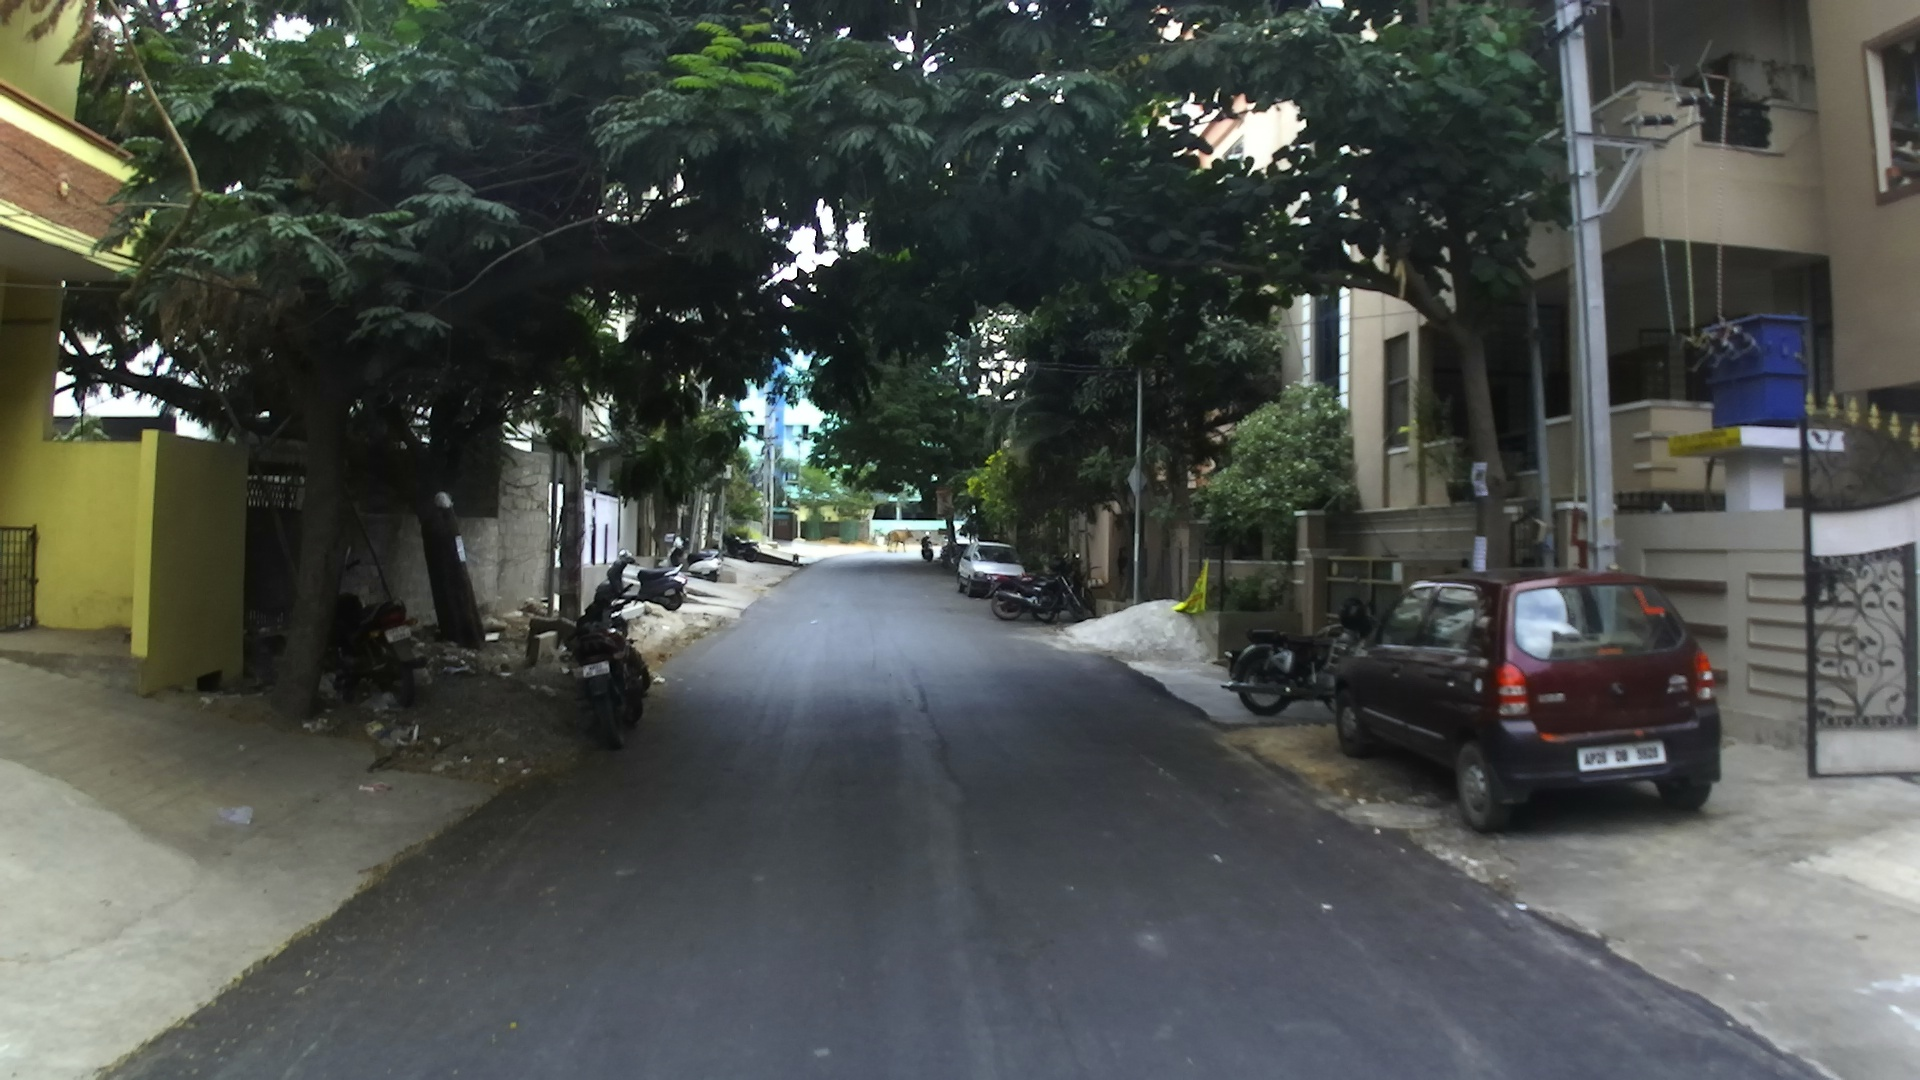vehicle: (1327, 571, 1724, 833), (563, 611, 654, 750), (996, 572, 1087, 622), (957, 542, 1025, 595)
